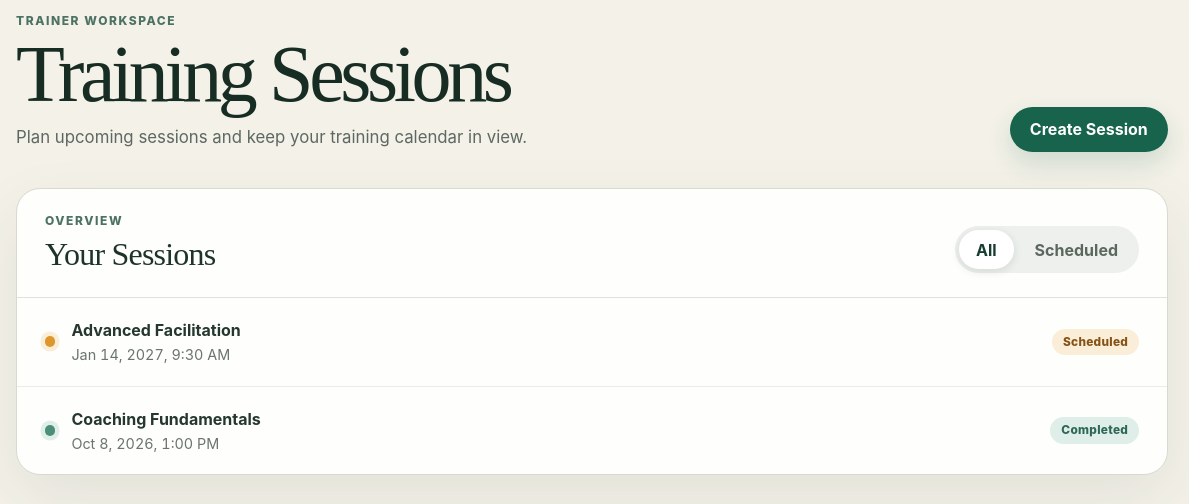
Training Sessions workspace › filters the loaded sessions to Scheduled
The image size is (1189, 504).
Expected: the heading "Coaching Fundamentals" is shown, top-left (71, 409), bottom-right (261, 430)
Click the button "Scheduled". click: (1076, 250)
box: top-left (1018, 230), bottom-right (1135, 269)
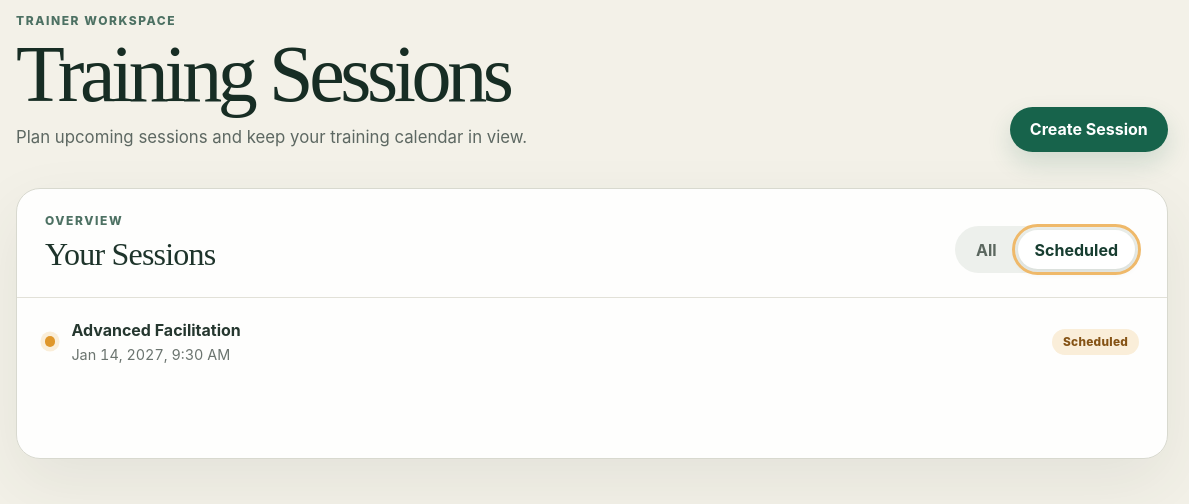
Expected: the heading "Advanced Facilitation" is shown, top-left (71, 320), bottom-right (241, 342)
Expected: the heading "Coaching Fundamentals" is gone
